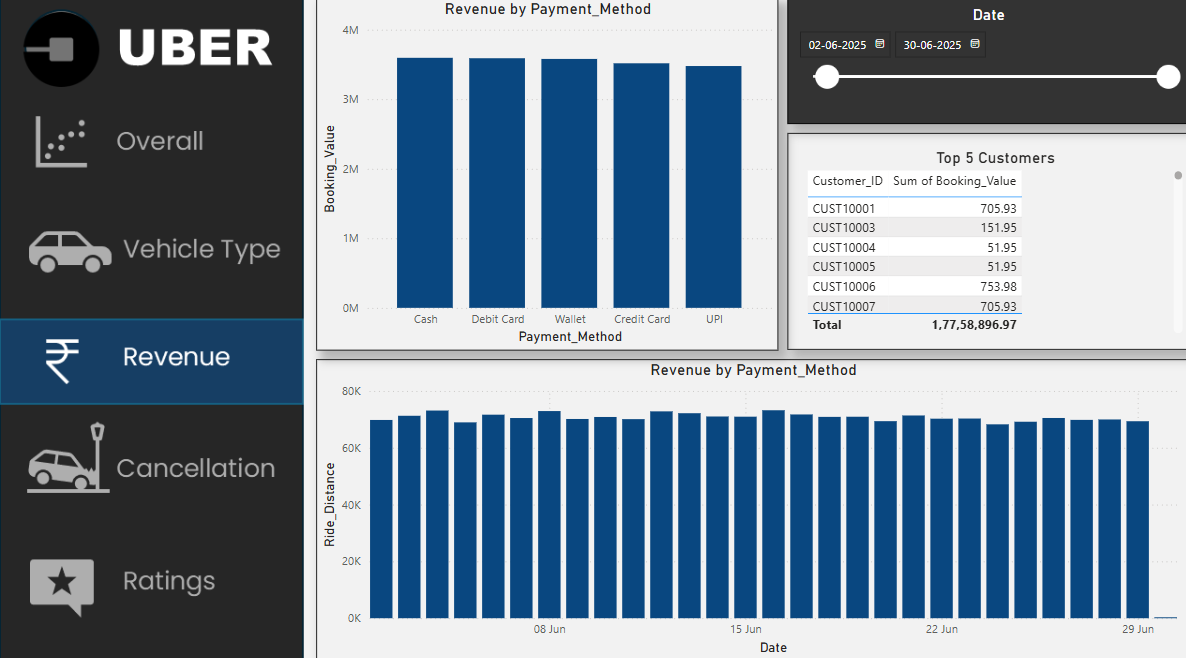

What the dashboard file says about the page in this screenshot:
{"tool":"powerbi","page":{"name":"Revenue","canvas":[1280,720],"ordinal":2},"visuals":[{"type":"actionButton","box":[0,220,325,96.7],"z":0},{"type":"actionButton","box":[1.7,448.3,325,96.7],"z":1000},{"type":"actionButton","box":[1.7,576.7,325,96.7],"z":2000},{"type":"actionButton","box":[0,106.7,325,96.7],"z":3000},{"type":"columnChart","title":"Revenue by Payment_Method","fields":{"Y":["Sum(bookings.Booking_Value)"],"Category":["bookings.Payment_Method"]},"box":[337.1,0,492.9,375.7],"z":4000},{"type":"columnChart","title":"Revenue by Payment_Method","fields":{"Y":["Sum(bookings.Ride_Distance)"],"Category":["bookings.Date"]},"box":[337.1,385.7,931.4,321.4],"z":5000},{"type":"slicer","title":"Date","fields":{"Values":["bookings.Date"]},"box":[839.8,0,428.1,134.5],"z":6000},{"type":"tableEx","title":"Top 5 Customers","fields":{"Values":["bookings.Customer_ID","Sum(bookings.Booking_Value)"]},"box":[840,144.3,428.6,231.4],"z":7000}]}

Visuals, with their boxes on the page's 1280x720 design canvas (x1, y1, x2, y2). These are canvas units, not pixel positions in the 1186x658 screenshot, which may show the page scaled, cropped or inside an application window:
actionButton: [0,220,325,317]
actionButton: [2,448,327,545]
actionButton: [2,577,327,673]
actionButton: [0,107,325,203]
"Revenue by Payment_Method" columnChart: [337,0,830,376]
"Revenue by Payment_Method" columnChart: [337,386,1268,707]
"Date" slicer: [840,0,1268,134]
"Top 5 Customers" tableEx: [840,144,1269,376]
